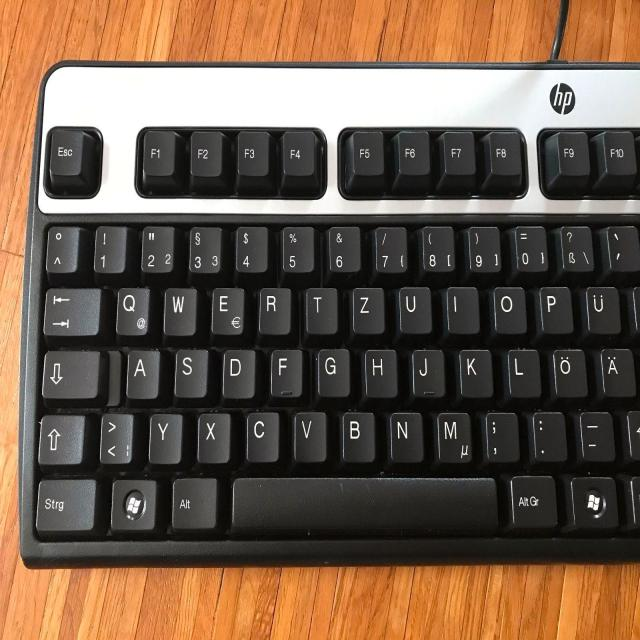0: (512, 223, 549, 274)
1: (93, 223, 127, 273)
2: (139, 222, 175, 273)
3: (186, 223, 222, 276)
4: (234, 223, 269, 274)
5: (279, 222, 314, 275)
6: (326, 223, 361, 276)
7: (372, 224, 408, 276)
8: (419, 222, 455, 277)
9: (465, 223, 502, 276)
a: (125, 346, 160, 399)
accent: (605, 222, 638, 271)
ae: (599, 346, 636, 396)
alt-left: (169, 474, 217, 529)
altgr-right: (508, 472, 558, 527)
b: (340, 409, 376, 462)
c: (244, 408, 280, 462)
caret: (44, 223, 80, 273)
comma: (483, 409, 520, 463)
d: (220, 345, 256, 398)
e: (209, 285, 245, 336)
f: (268, 345, 302, 396)
g: (315, 345, 351, 397)
h: (363, 346, 398, 397)
i: (445, 284, 479, 334)
j: (410, 346, 444, 397)
k: (457, 345, 493, 398)
keyboard: (16, 55, 640, 569)
l: (506, 345, 541, 398)
less: (98, 409, 134, 465)
m: (434, 409, 472, 463)
minus: (579, 409, 616, 460)
n: (387, 409, 423, 462)
o: (491, 284, 527, 334)
oe: (550, 346, 588, 398)
p: (537, 284, 574, 334)
point: (530, 409, 567, 461)
q: (114, 285, 151, 338)
r: (257, 285, 291, 335)
s: (173, 346, 209, 397)
shift-left: (37, 411, 86, 467)
shift-lock: (40, 347, 106, 403)
space: (230, 474, 498, 532)
ss: (557, 222, 594, 273)
strg-left: (31, 474, 98, 534)
t: (304, 284, 338, 333)
tab: (42, 284, 101, 337)
u: (396, 283, 432, 334)
ue: (584, 283, 621, 334)
v: (292, 408, 327, 462)
w: (162, 283, 197, 335)
x: (196, 408, 231, 463)
y: (148, 409, 183, 464)
z: (350, 285, 385, 334)
